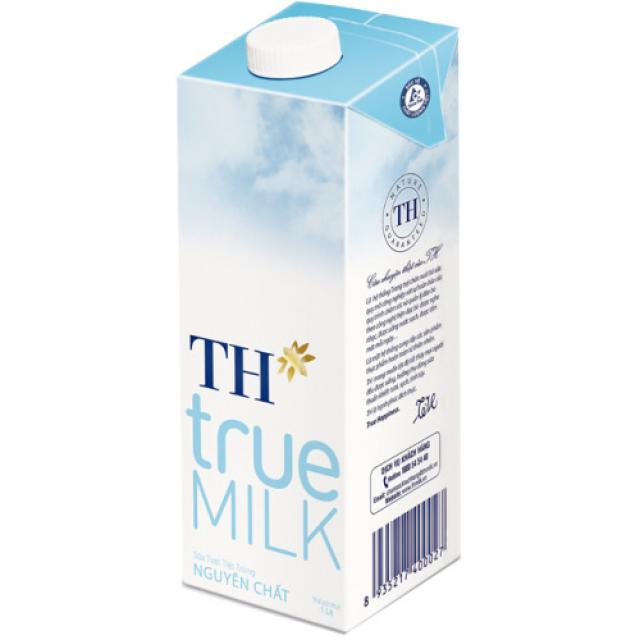non_white_jug: (157, 13, 491, 636)
